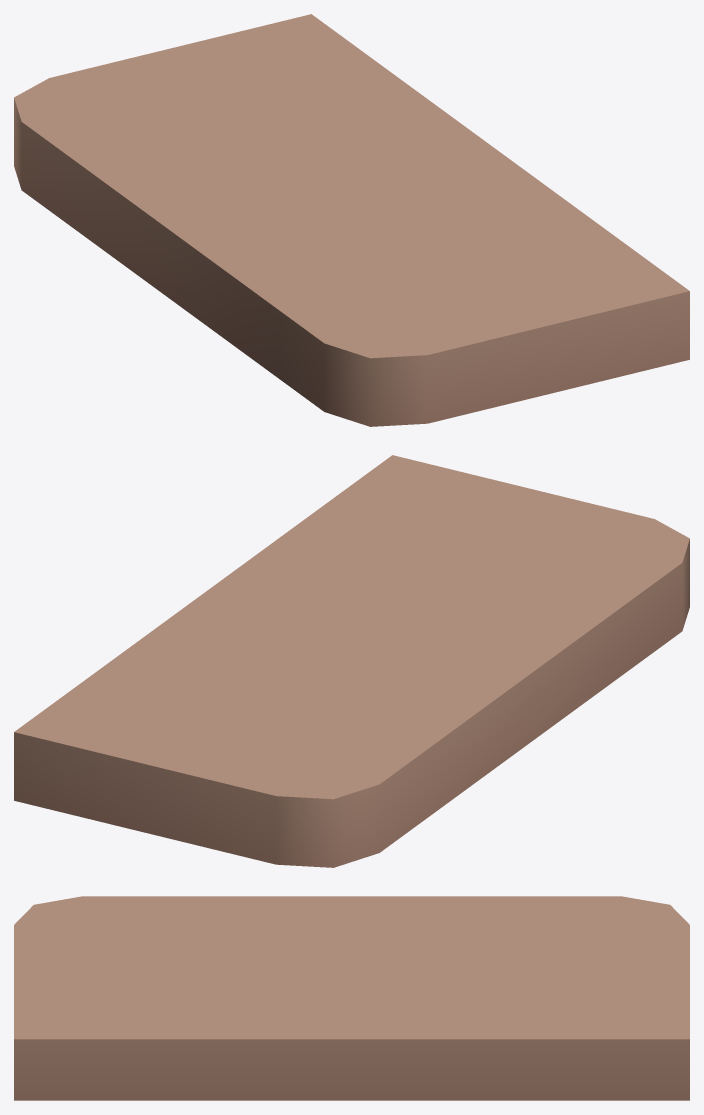
The model's file is surfaces-half-surface-rounded.glb.
The picture shows the model from 3 angles, top to bottom: view 1: azimuth 30°, elevation 25°; view 2: azimuth 150°, elevation 25°; view 3: azimuth 270°, elevation 25°; orthographic projection. The views are drawn at different scales.
Visible parts, largest first — view 1: surfaces-half-surface-rounded; view 2: surfaces-half-surface-rounded; view 3: surfaces-half-surface-rounded.
Part boxes in pixels (x1,y1,x2,y2): surfaces-half-surface-rounded: [14, 14, 689, 426]; surfaces-half-surface-rounded: [14, 455, 689, 867]; surfaces-half-surface-rounded: [14, 896, 689, 1100].
Bounding box in the file's own units: 0.5 × 0.1 × 1.
